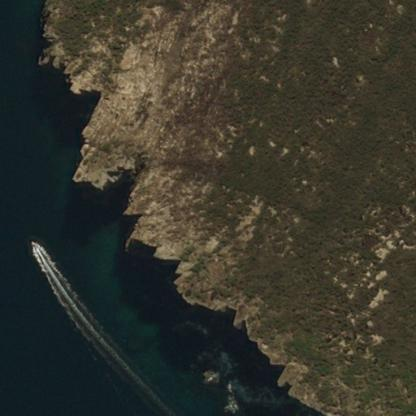ship: (30, 238, 34, 245)
